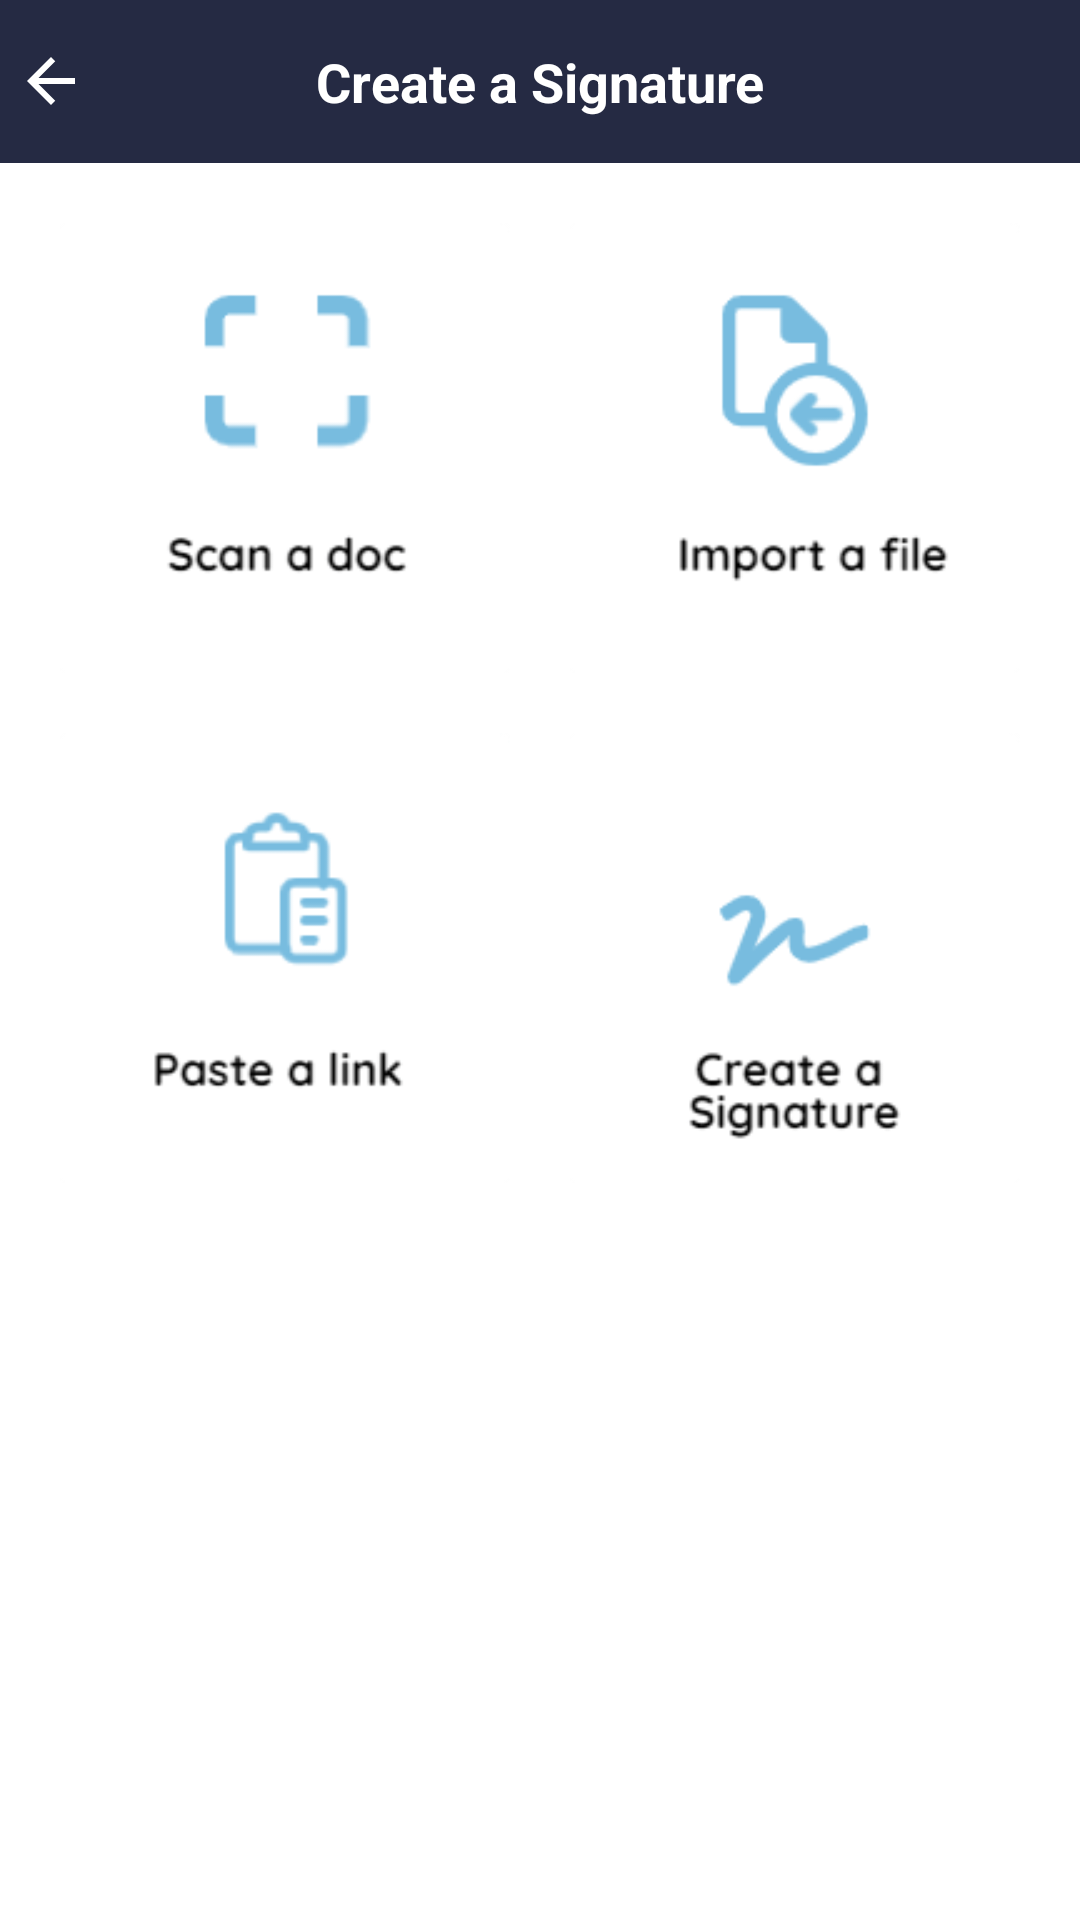

Named icons in this screenshot (1080x1920) and their bounding boxes, (x1, y1, x2, y2):
arrow back: (27, 57, 75, 105)
